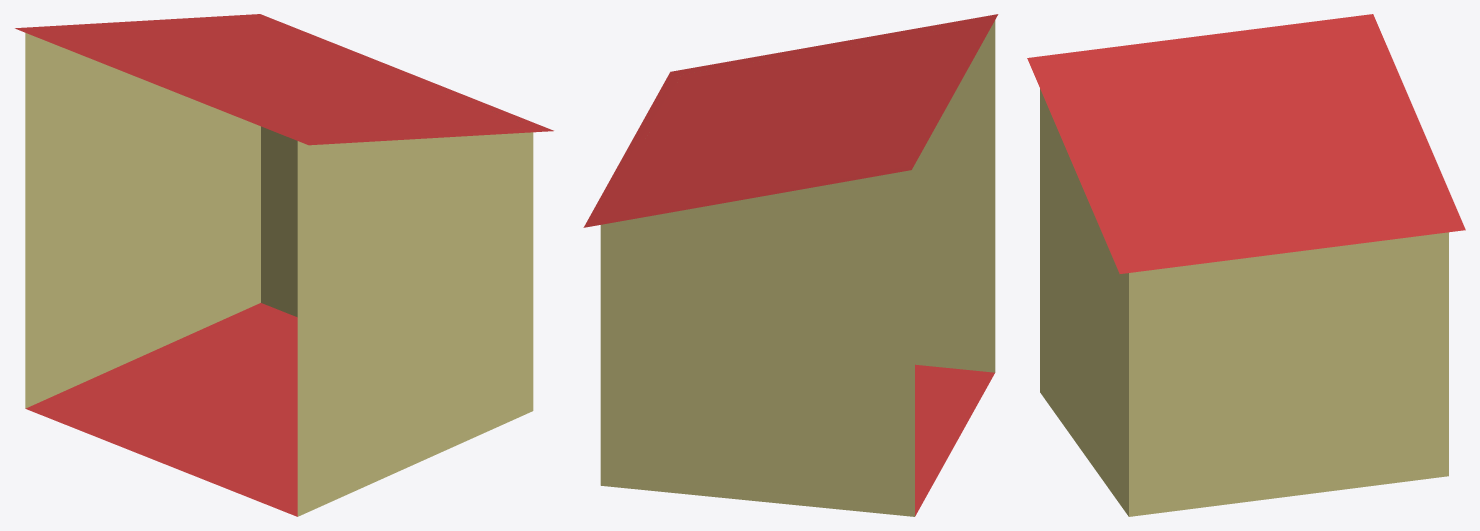
3 renders of one model, left to right at view 1: azimuth 30°, elevation 25°; view 2: azimuth 150°, elevation 25°; view 3: azimuth 270°, elevation 25°, orthographic. The views are drawn at different scales.
Size of the model in its own units: 7.52 by 8.01 by 6.77.
